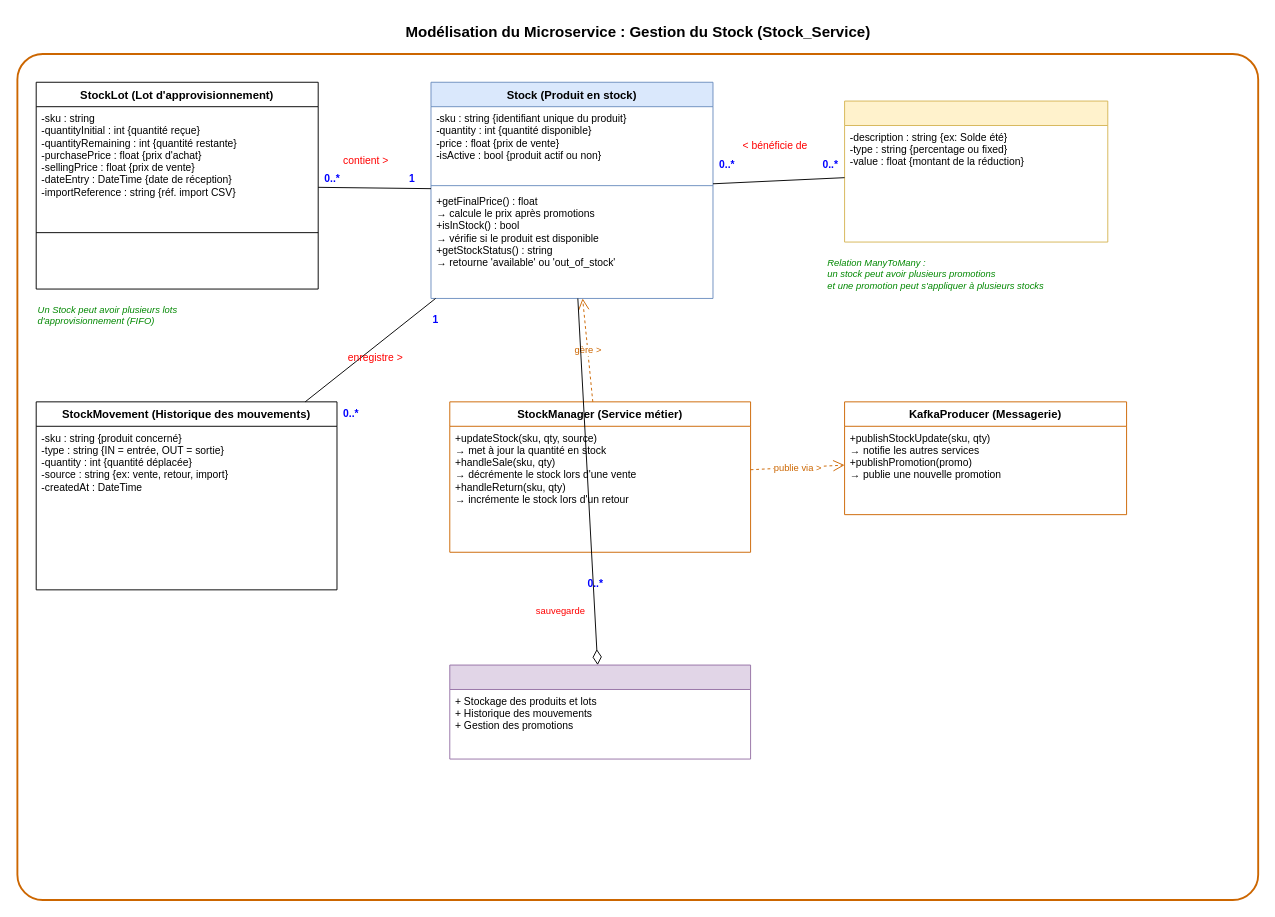
The diagram is 1275 pixels wide and 917 high, and some of its shapes have lost their labels. Each missing label, with the box of its shape:
Base de Données (PostgreSQL): (449, 664, 751, 759)
Promotion: (844, 100, 1108, 242)
